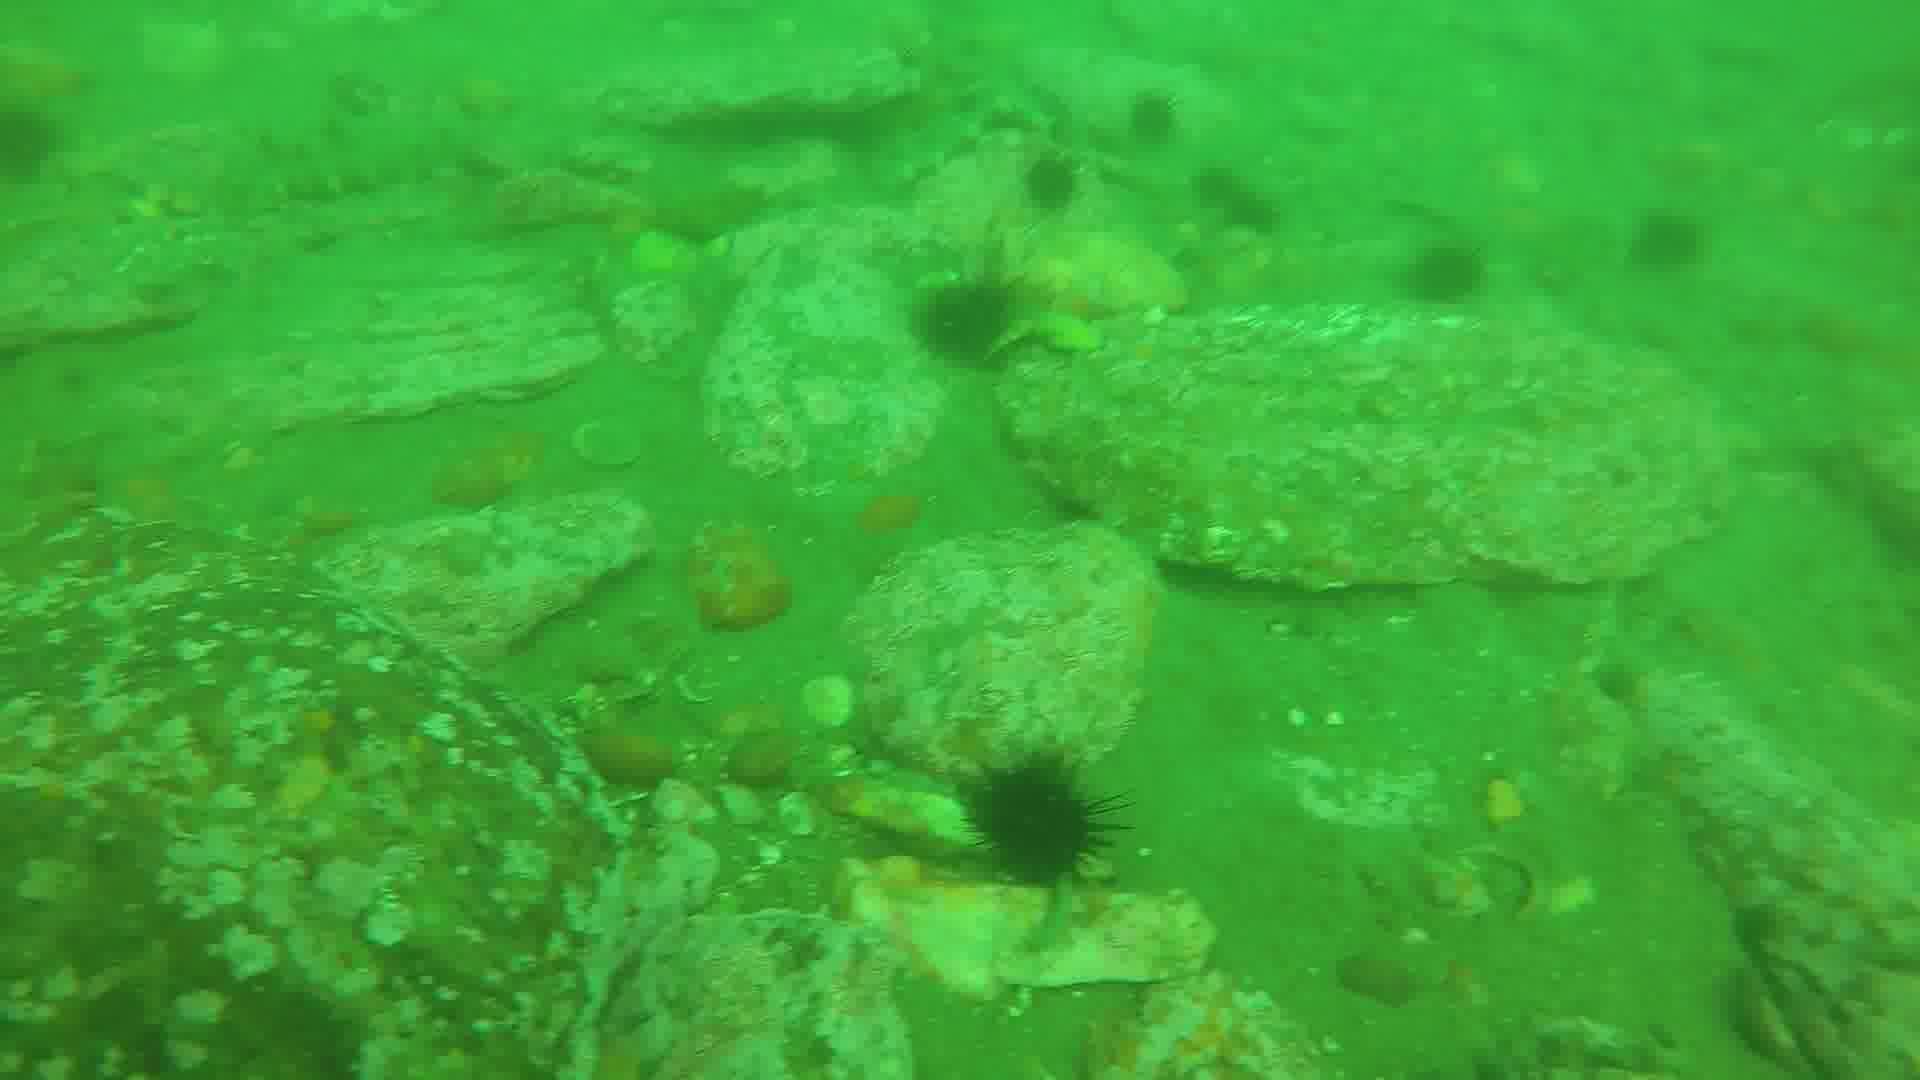echinus: (972, 752, 1092, 884), (930, 269, 1002, 367), (1640, 211, 1720, 278), (1419, 236, 1484, 313), (1204, 162, 1276, 225), (1025, 161, 1093, 219), (1134, 92, 1185, 146)
holothurian: (272, 112, 484, 200)
scallop: (576, 415, 653, 475), (1038, 298, 1106, 359), (798, 675, 860, 738), (775, 793, 829, 847)
